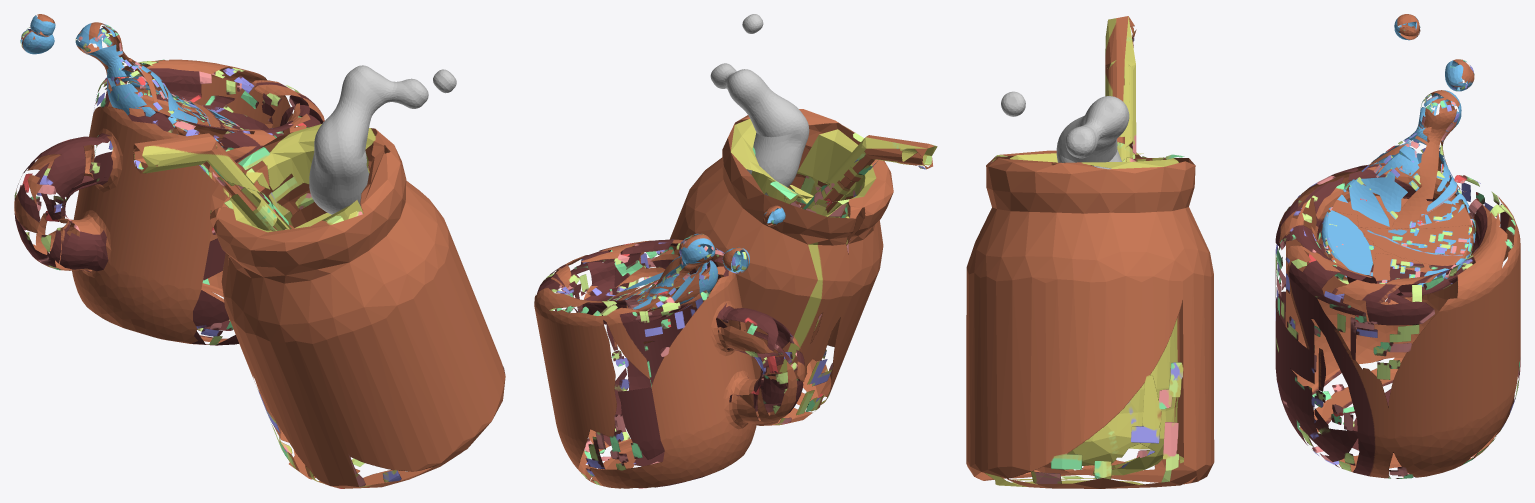
The model's file is Coffee.obj.
The picture shows the model from 3 angles, left to right: view 1: azimuth 30°, elevation 25°; view 2: azimuth 150°, elevation 25°; view 3: azimuth 270°, elevation 25°; orthographic projection. The views are drawn at different scales.
Visible parts, largest first — view 1: model_1, model_0, model_3, model_2; view 2: model_0, model_1, model_3, model_2; view 3: model_1, model_0, model_2, model_3.
Part boxes in pixels (<box>): model_1: <box>133,124,505,488</box>; model_0: <box>14,59,324,345</box>; model_3: <box>309,65,456,214</box>; model_2: <box>20,14,243,147</box>; model_0: <box>534,239,804,488</box>; model_1: <box>643,109,937,425</box>; model_3: <box>710,14,809,195</box>; model_2: <box>607,205,785,315</box>; model_1: <box>966,16,1214,488</box>; model_0: <box>1275,162,1520,478</box>; model_2: <box>1321,14,1475,286</box>; model_3: <box>1001,91,1129,169</box>.
Bounding box in the file's own units: 166 × 191 × 224.
